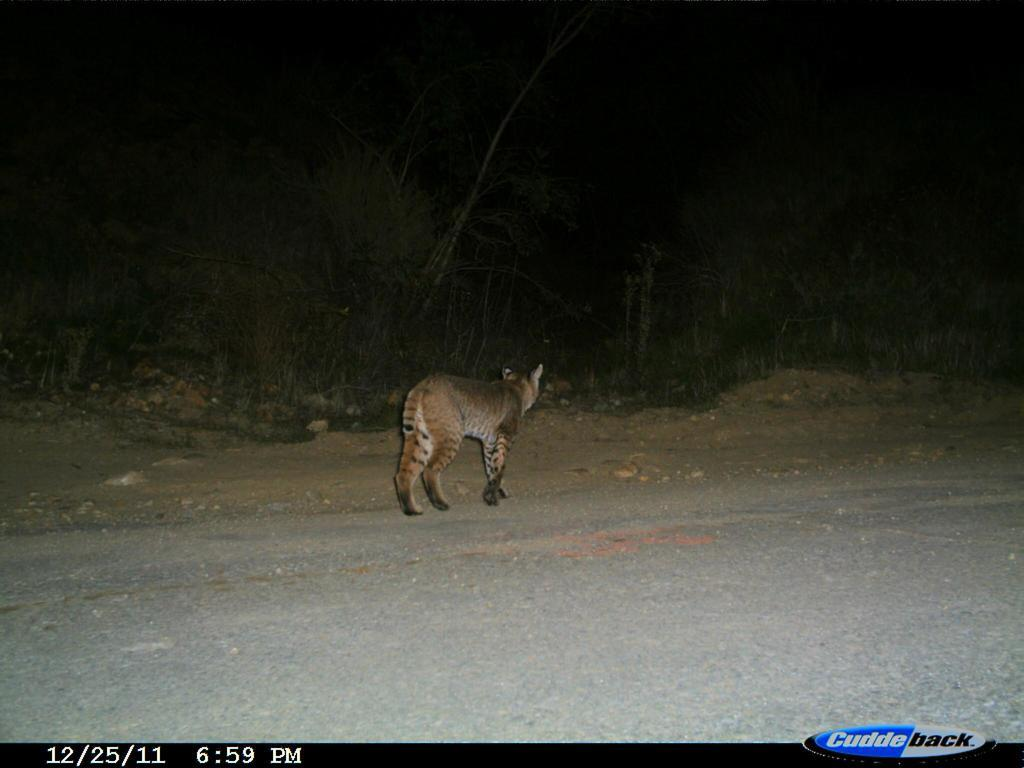bobcat: (368, 360, 553, 534)
